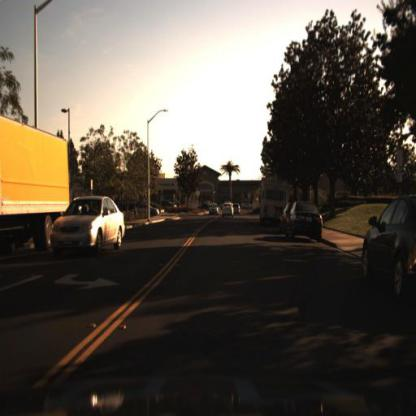car: (358, 195, 416, 307), (52, 197, 125, 262), (287, 201, 324, 251), (131, 202, 162, 223), (223, 200, 238, 221), (210, 198, 221, 222)
truck: (2, 116, 70, 261), (257, 178, 294, 229)
